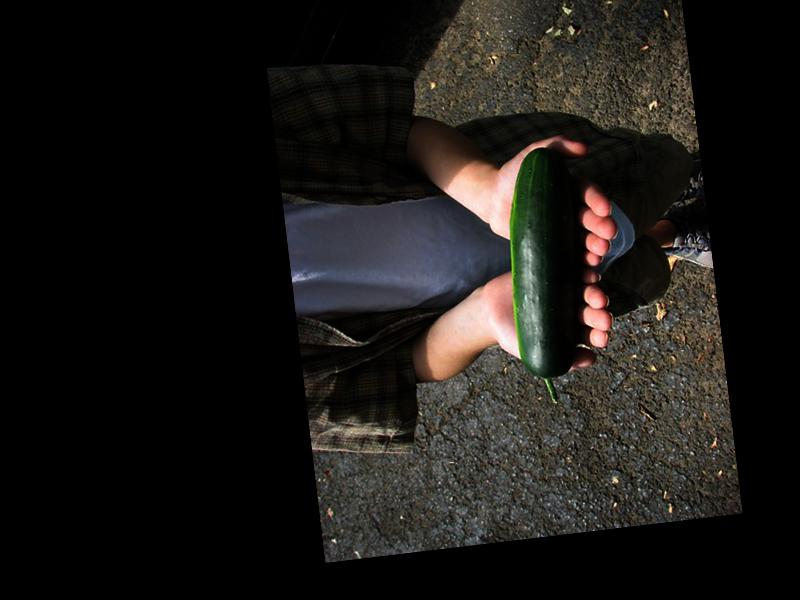Cucumber: (496, 146, 598, 408)
